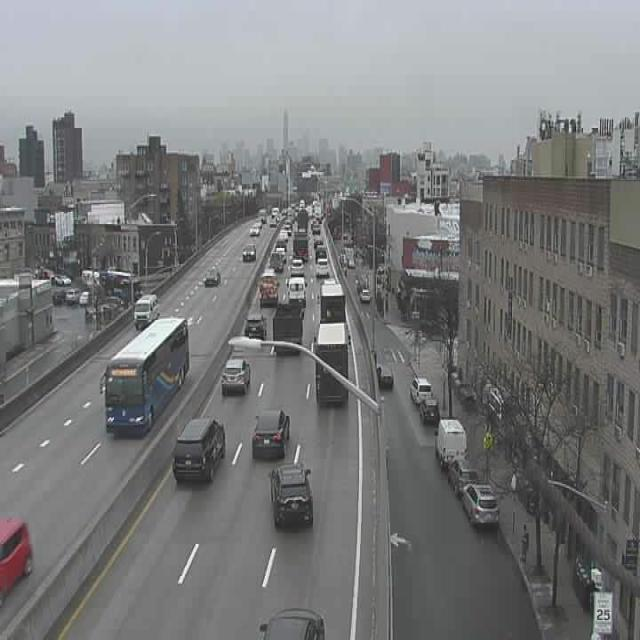open parking: (465, 511, 556, 640), (422, 393, 459, 452)
